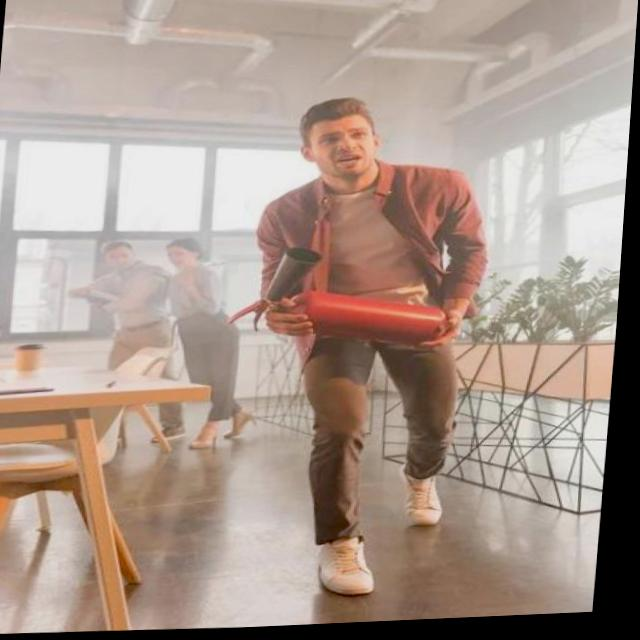FireExtinguisher: (225, 237, 467, 360)
